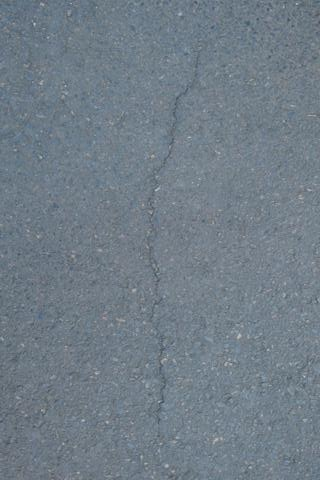A: (143, 50, 204, 434)
